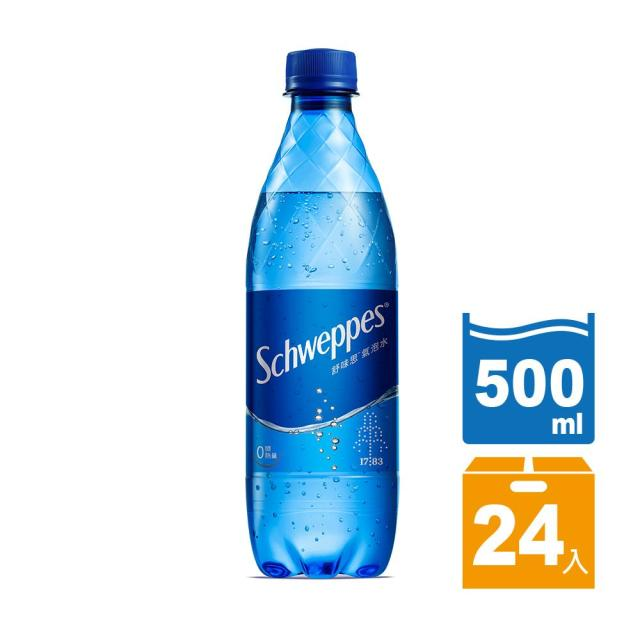bottle: (238, 48, 403, 580)
